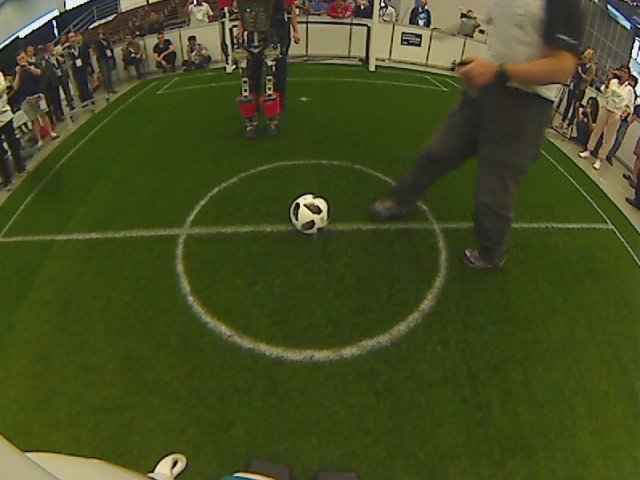ball: (286, 191, 332, 239)
